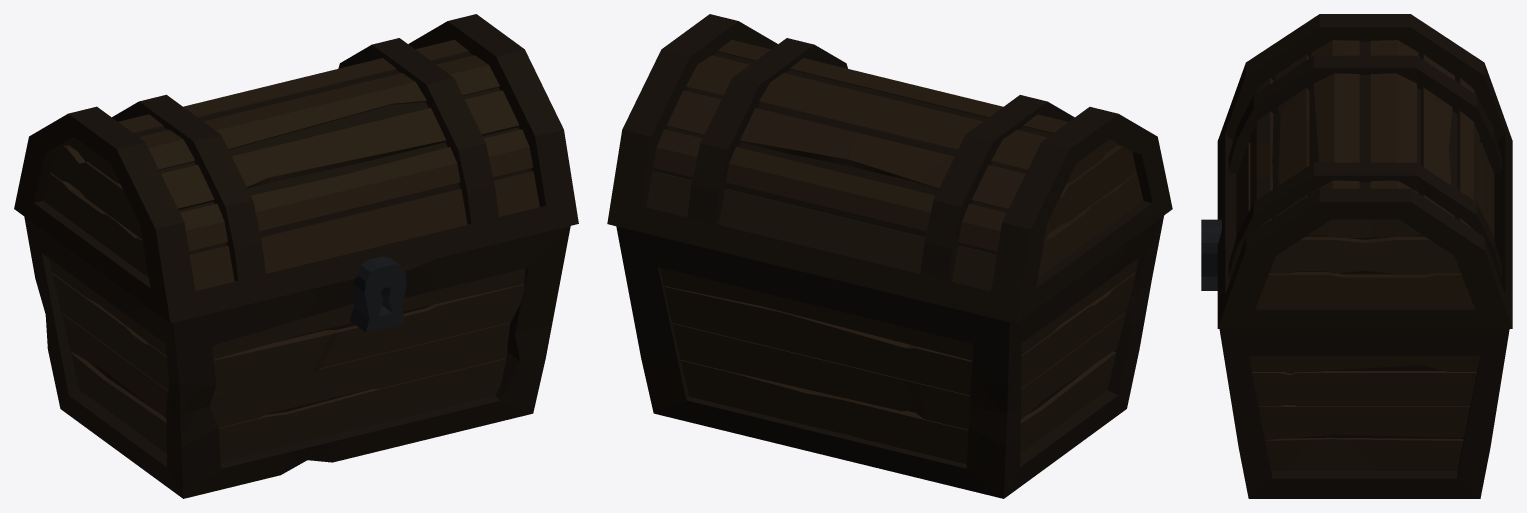
File: Chest.obj
3 views of the same model, side by side, from view 1: azimuth 30°, elevation 25°; view 2: azimuth 150°, elevation 25°; view 3: azimuth 270°, elevation 25° (orthographic). The views are drawn at different scales.
Parts seen in each view (by area): view 1: Chest_Top_Cylinder.001, Chest_Base_Cube.001; view 2: Chest_Top_Cylinder.001, Chest_Base_Cube.001; view 3: Chest_Top_Cylinder.001, Chest_Base_Cube.001.
Boxes of the visible parts, box(x1,y1,x2,y2) form: Chest_Top_Cylinder.001: box(14, 14, 578, 323); Chest_Base_Cube.001: box(24, 217, 570, 498); Chest_Top_Cylinder.001: box(607, 14, 1172, 323); Chest_Base_Cube.001: box(616, 216, 1163, 498); Chest_Top_Cylinder.001: box(1217, 14, 1512, 328); Chest_Base_Cube.001: box(1201, 219, 1509, 498).
Bounding box in the file's own units: 1.18 × 0.9093 × 0.8264.
